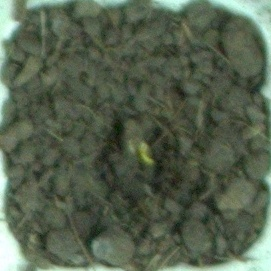pepper seed: (55, 54, 216, 222)
